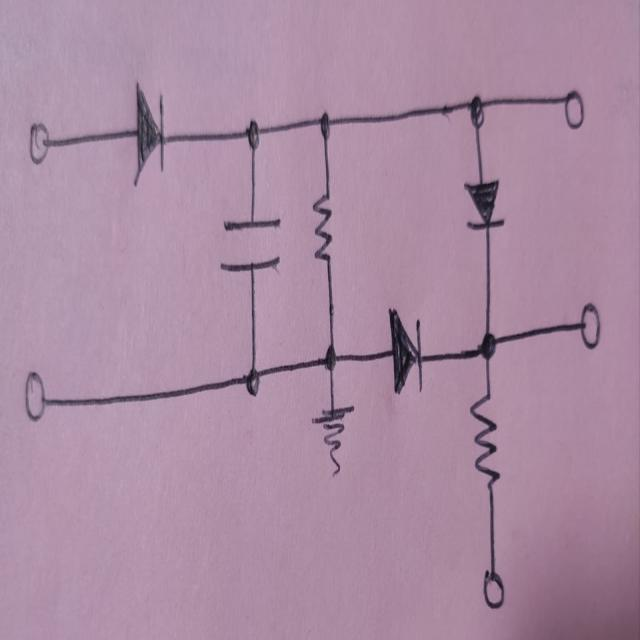capacitor: (220, 209, 280, 285)
diode: (133, 78, 169, 185), (386, 306, 425, 392), (464, 173, 504, 236)
ground: (312, 400, 354, 482)
junction: (466, 87, 487, 134), (477, 324, 499, 366), (244, 114, 262, 156), (322, 337, 340, 378), (245, 362, 262, 403), (318, 106, 332, 142)
resistor: (469, 386, 500, 494), (311, 186, 335, 269)
terminal: (480, 562, 507, 616), (28, 116, 53, 170), (24, 368, 49, 422), (561, 83, 584, 132), (577, 301, 600, 350)
